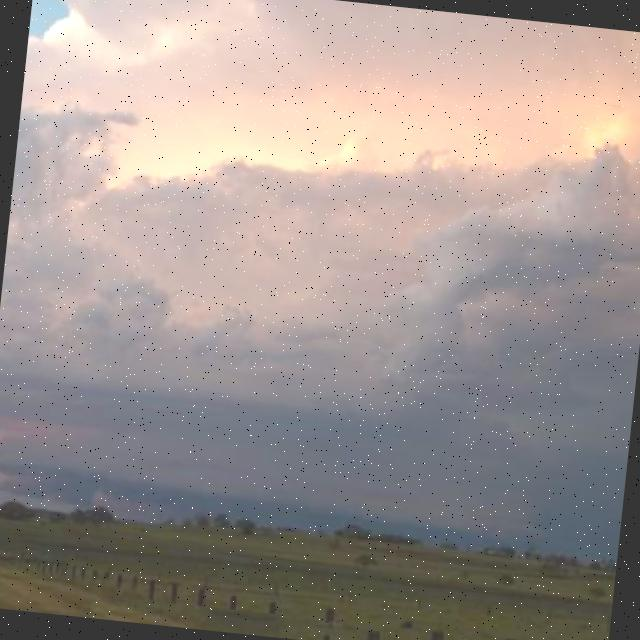Cb: (1, 8, 640, 503)
